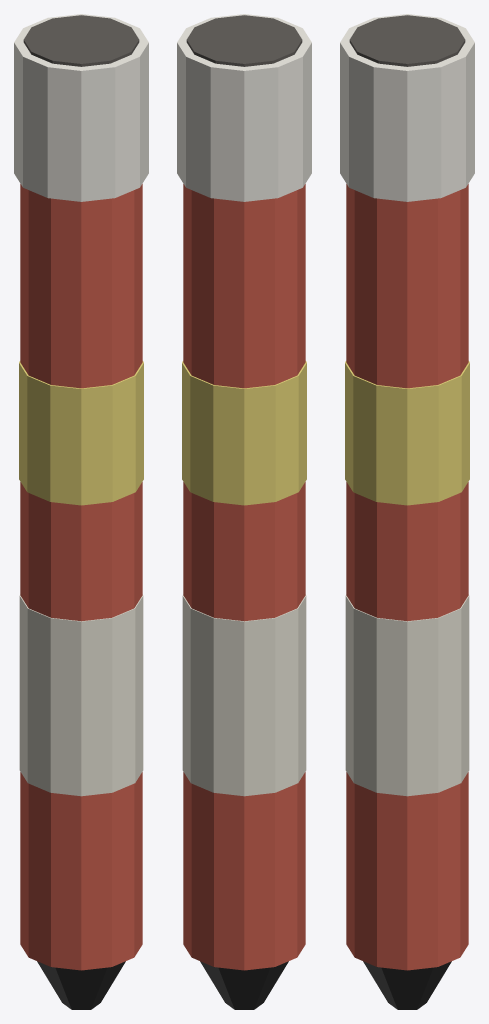
The model's file is supply_flare.glb.
The picture shows the model from 3 angles, left to right: view 1: azimuth 30°, elevation 25°; view 2: azimuth 150°, elevation 25°; view 3: azimuth 330°, elevation 25°; orthographic projection.
Visible parts, largest first — view 1: Flare; view 2: Flare; view 3: Flare.
Boxes of the visible parts, x1,y1,x2,y2 form: Flare: [14, 14, 148, 1009]; Flare: [177, 14, 311, 1009]; Flare: [340, 14, 474, 1009].
Bounding box in the file's own units: 0.042 × 0.331 × 0.042.
